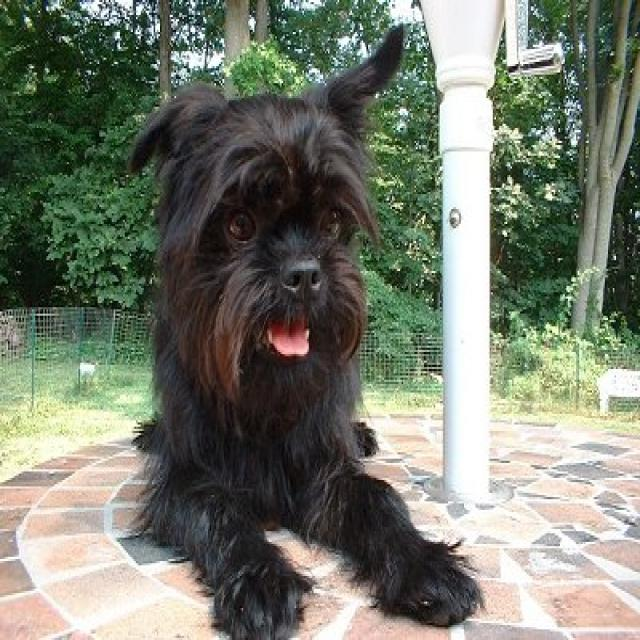dog: (118, 44, 402, 446)
